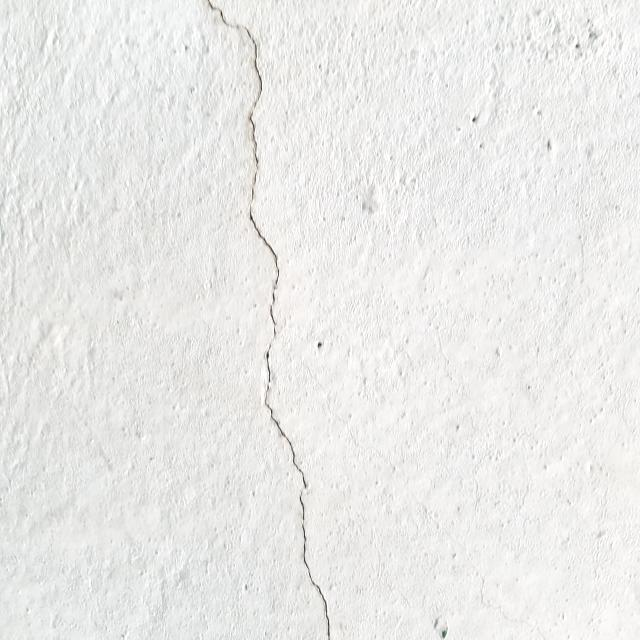SurfaceCrack: (194, 1, 359, 640)
